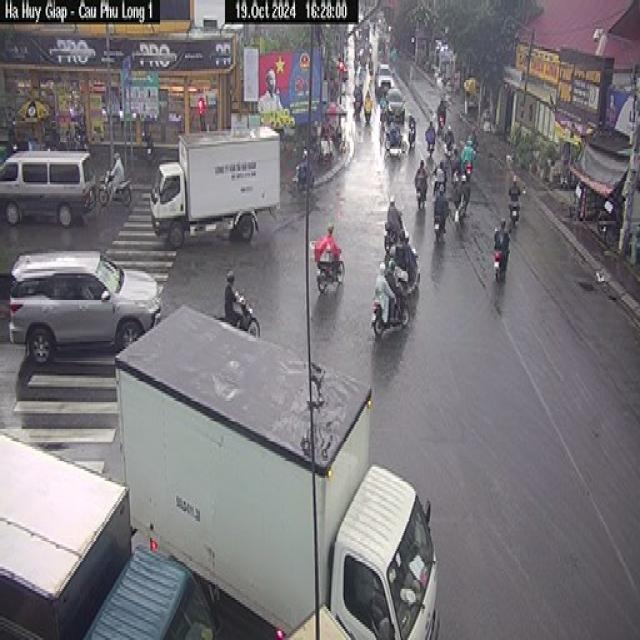car: (5, 245, 167, 368), (0, 136, 95, 224)
motorcycle: (369, 291, 410, 333), (98, 174, 132, 210), (217, 312, 263, 336), (317, 260, 347, 290), (381, 227, 408, 255), (395, 264, 420, 294), (490, 249, 514, 280), (432, 208, 448, 243), (508, 193, 522, 227), (292, 171, 312, 192), (457, 199, 470, 229), (417, 180, 427, 214)
person: (226, 267, 250, 322), (106, 147, 126, 190), (397, 219, 413, 265), (319, 221, 336, 264), (390, 256, 403, 312), (496, 212, 510, 264), (374, 260, 389, 302), (508, 168, 522, 210), (459, 167, 472, 202), (435, 176, 447, 213), (388, 193, 398, 227), (417, 154, 427, 188), (302, 145, 310, 184)
truck: (119, 306, 450, 640), (0, 425, 226, 640), (148, 123, 284, 251)
